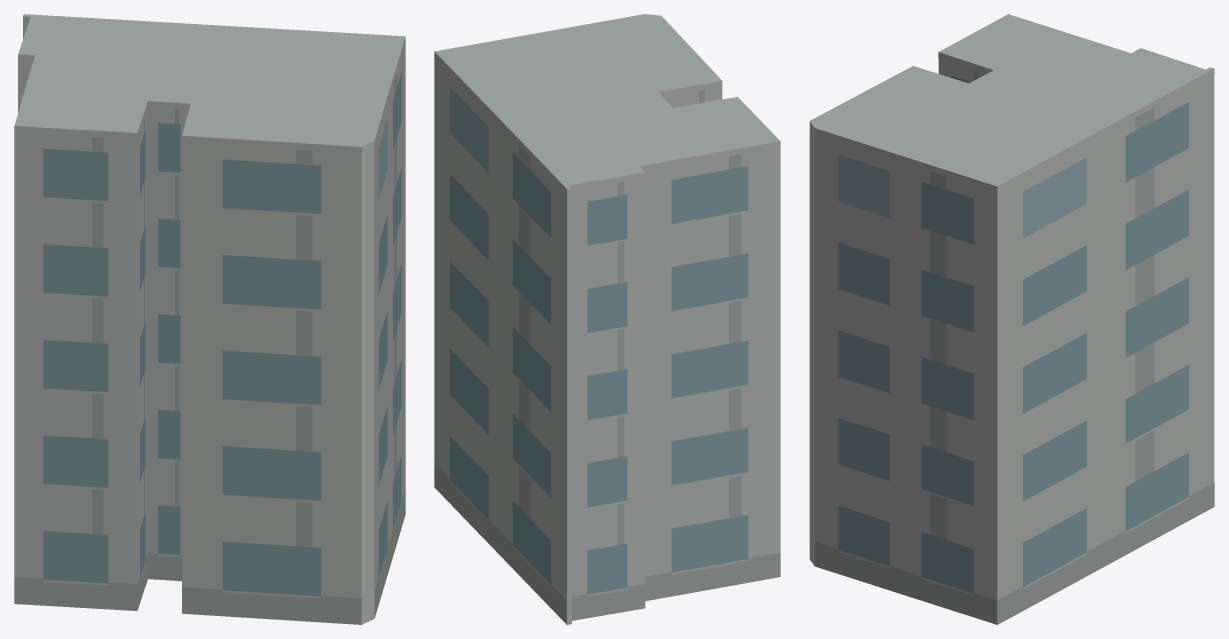
File: survey-upis-32808253.glb
3 renders of one model, left to right at view 1: azimuth 30°, elevation 25°; view 2: azimuth 150°, elevation 25°; view 3: azimuth 270°, elevation 25°, orthographic. The views are drawn at different scales.
Visible parts, largest first — view 1: survey-upis-32808253.tmp; view 2: survey-upis-32808253.tmp; view 3: survey-upis-32808253.tmp.
Part boxes in pixels (x1,y1,x2,y2): survey-upis-32808253.tmp: [14, 14, 405, 624]; survey-upis-32808253.tmp: [434, 14, 780, 624]; survey-upis-32808253.tmp: [809, 14, 1214, 624].
Bounding box in the file's own units: 14.65 × 17.35 × 14.53.
